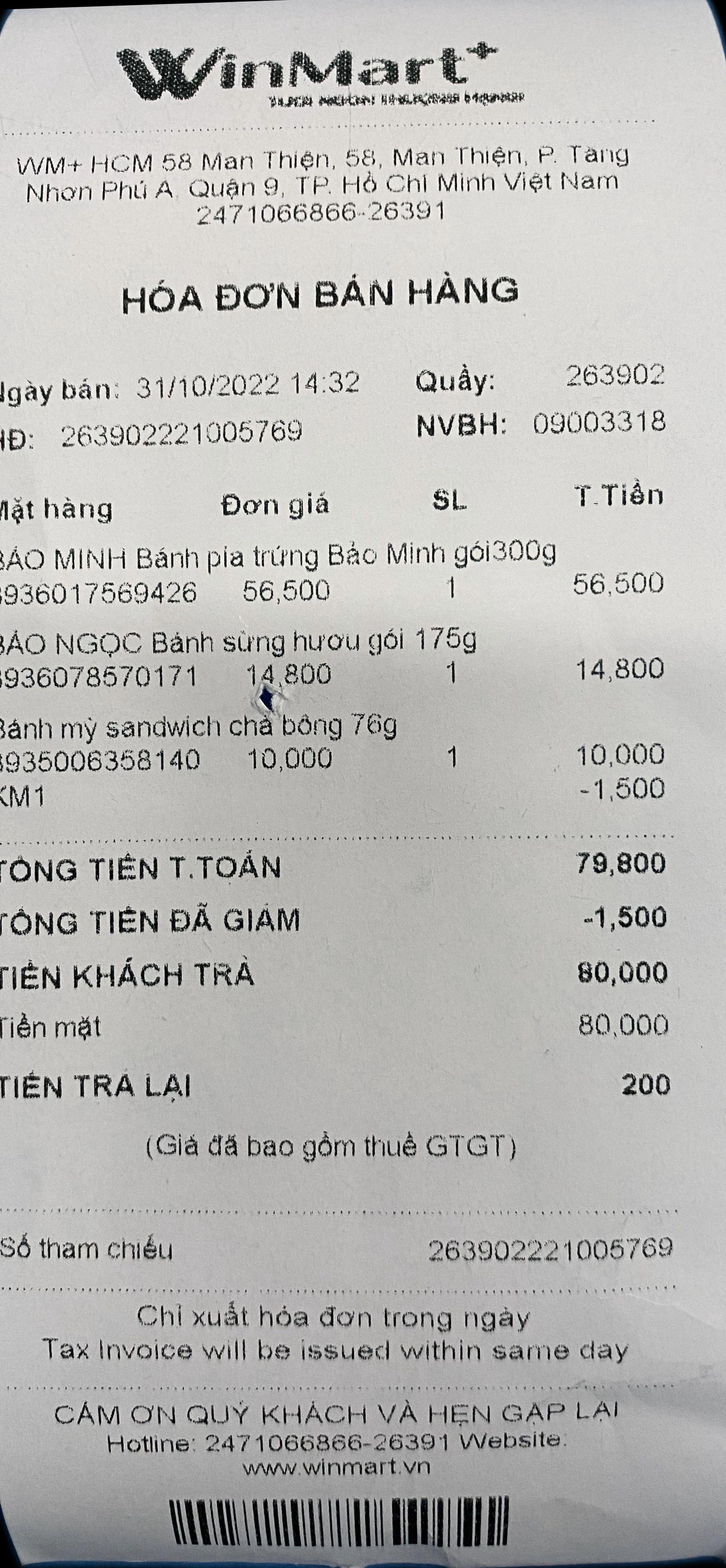Date: (129, 363, 281, 401)
Store_Name: (87, 26, 537, 109)
Total_Amount: (0, 836, 678, 889)
